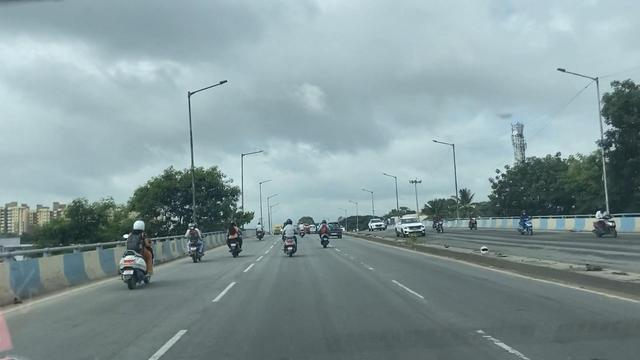LMV: (123, 219, 150, 285), (183, 220, 209, 267), (226, 221, 245, 258), (285, 221, 296, 258), (320, 219, 331, 251), (328, 221, 340, 239), (255, 223, 266, 238), (298, 222, 305, 237)
